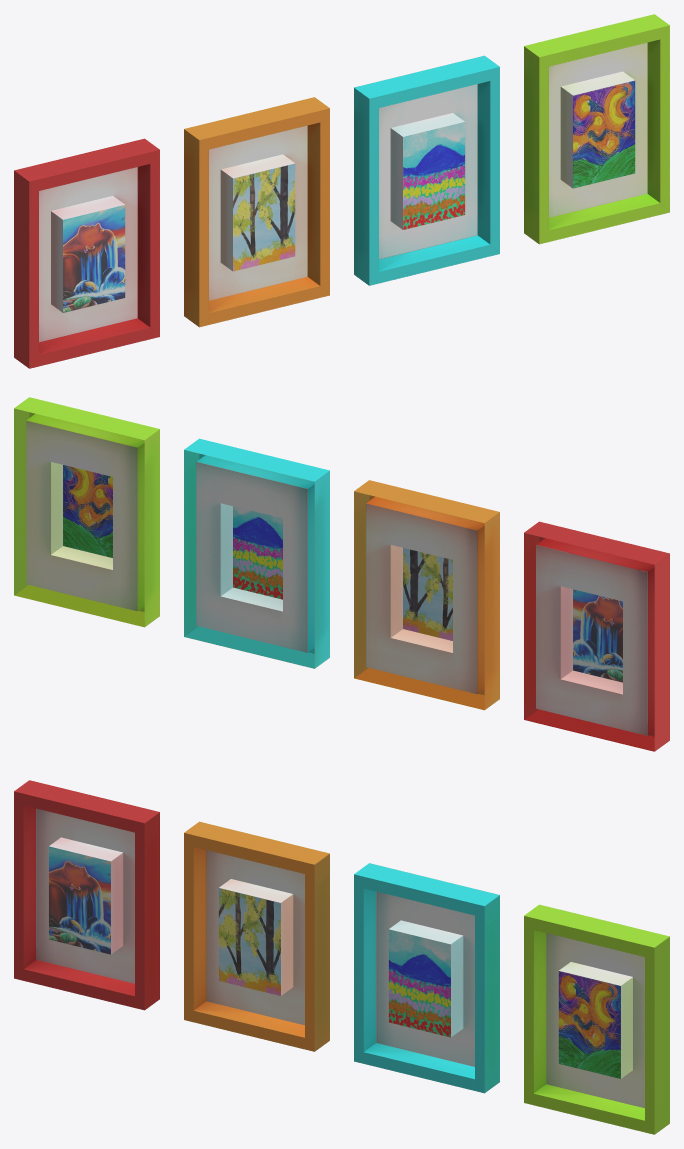
The model's file is Antique Flowers Watercolor.FBX.
The picture shows the model from 3 angles, top to bottom: view 1: azimuth 30°, elevation 25°; view 2: azimuth 150°, elevation 25°; view 3: azimuth 330°, elevation 25°; orthographic projection.
Visible parts, largest first — view 1: Antique Flowers Watercolor; view 2: Antique Flowers Watercolor; view 3: Antique Flowers Watercolor.
Part boxes in pixels (x1,y1,x2,y2): Antique Flowers Watercolor: (14, 14, 669, 368); Antique Flowers Watercolor: (14, 397, 669, 751); Antique Flowers Watercolor: (14, 780, 669, 1134).
Bounding box in the file's own units: 1.3 × 0.3637 × 0.0542.
1 material, 1 textured.
